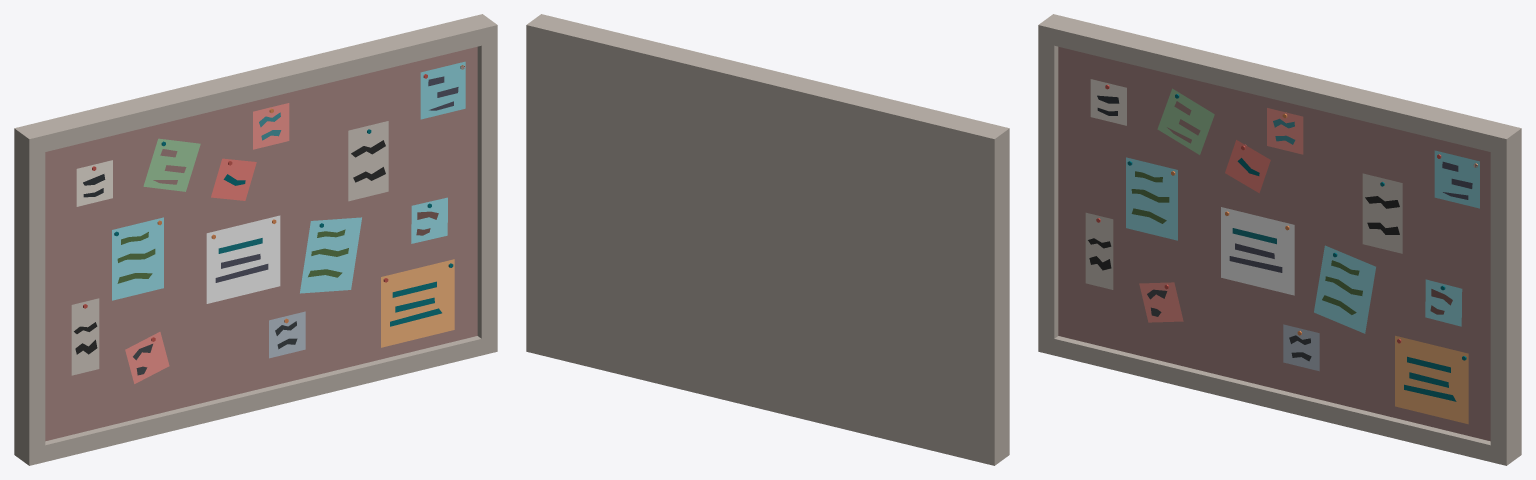
Rendered from memoboard.fbx.
The picture shows the model from 3 angles, left to right: view 1: azimuth 30°, elevation 25°; view 2: azimuth 150°, elevation 25°; view 3: azimuth 330°, elevation 25°; orthographic projection.
Parts seen in each view (by area): view 1: MemoBoard_01; view 2: MemoBoard_01; view 3: MemoBoard_01.
Boxes of the visible parts, x1,y1,x2,y2 form: MemoBoard_01: (14,14,497,465); MemoBoard_01: (526,14,1009,465); MemoBoard_01: (1038,14,1521,465).
Size of the model in its own units: 90 by 60 by 5.
